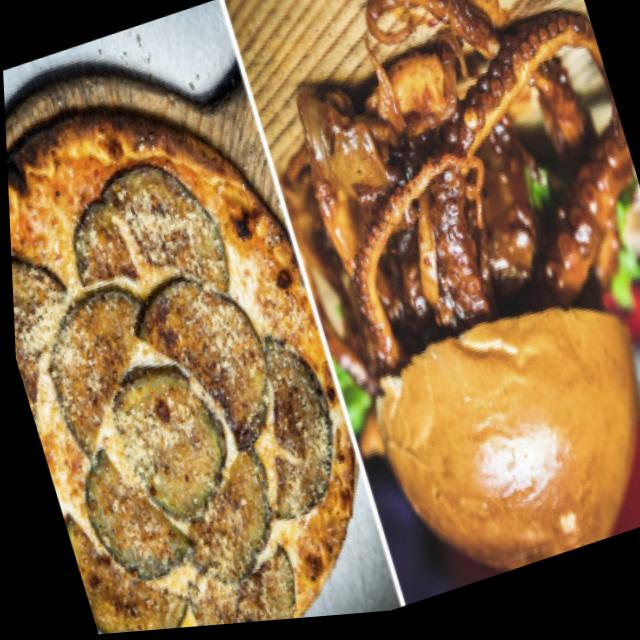burger: (274, 7, 640, 613)
pizza: (3, 51, 392, 640)
